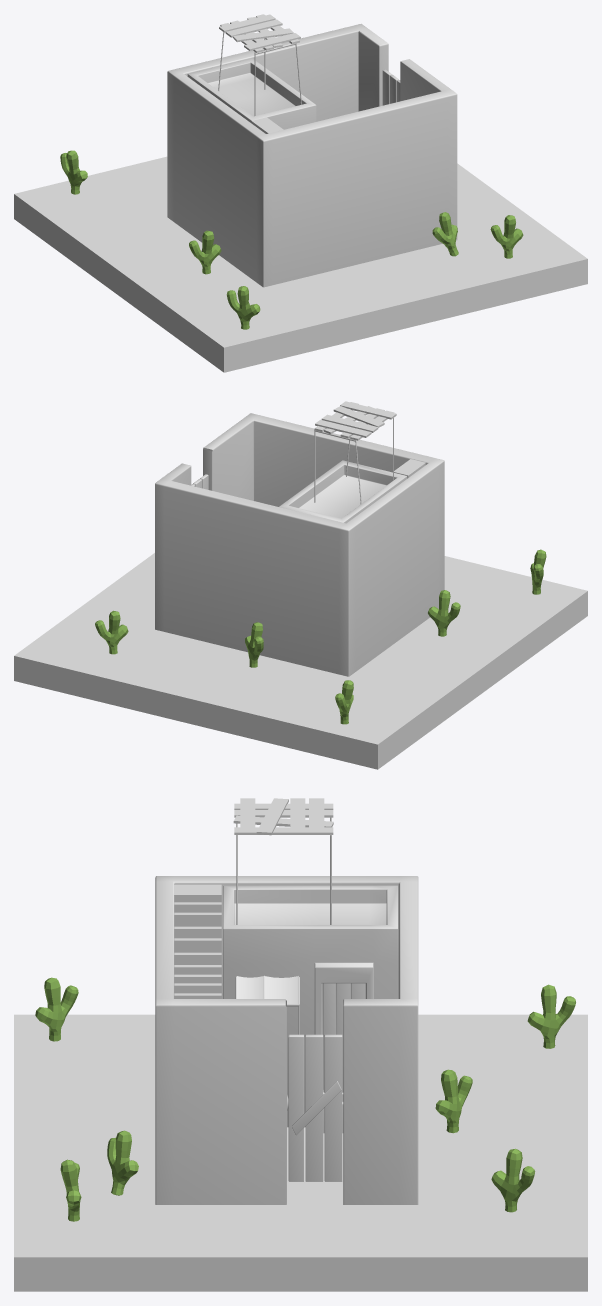
Rendered from Diorama 2.glb.
The picture shows the model from 3 angles, top to bottom: view 1: azimuth 30°, elevation 25°; view 2: azimuth 150°, elevation 25°; view 3: azimuth 270°, elevation 25°; orthographic projection. The views are drawn at different scales.
Parts seen in each view (by area): view 1: House, Plano, Low Poly stylized cactus.004, Low Poly stylized cactus.002, Low Poly stylized cactus.005, Low Poly stylized cactus.001, Low Poly stylized cactus.003; view 2: House, Plano, Low Poly stylized cactus.005, Low Poly stylized cactus, Low Poly stylized cactus.006, Low Poly stylized cactus.001, Low Poly stylized cactus.004; view 3: Plano, House, Low Poly stylized cactus.001, Low Poly stylized cactus.004, Low Poly stylized cactus, Low Poly stylized cactus.006, Low Poly stylized cactus.003, Low Poly stylized cactus.002.
Boxes of the visible parts, x1,y1,x2,y2 form: House: (167,14,457,287); Plano: (14,156,587,372); Low Poly stylized cactus.004: (226,286,260,329); Low Poly stylized cactus.002: (490,215,523,258); Low Poly stylized cactus.005: (189,230,221,274); Low Poly stylized cactus.001: (60,150,87,194); Low Poly stylized cactus.003: (432,212,458,256); House: (155,401,444,676); Plano: (14,553,587,769); Low Poly stylized cactus.005: (428,590,460,636); Low Poly stylized cactus: (95,610,128,654); Low Poly stylized cactus.006: (245,622,263,667); Low Poly stylized cactus.001: (335,680,353,724); Low Poly stylized cactus.004: (530,549,546,594); Plano: (14,1014,587,1291); House: (155,798,418,1204); Low Poly stylized cactus.001: (527,984,575,1048); Low Poly stylized cactus.004: (35,977,78,1041); Low Poly stylized cactus: (491,1148,535,1212); Low Poly stylized cactus.006: (435,1069,472,1133); Low Poly stylized cactus.003: (107,1130,138,1195); Low Poly stylized cactus.002: (60,1159,81,1221).
Size of the model in its own units: 26.4 by 16.39 by 26.4.
